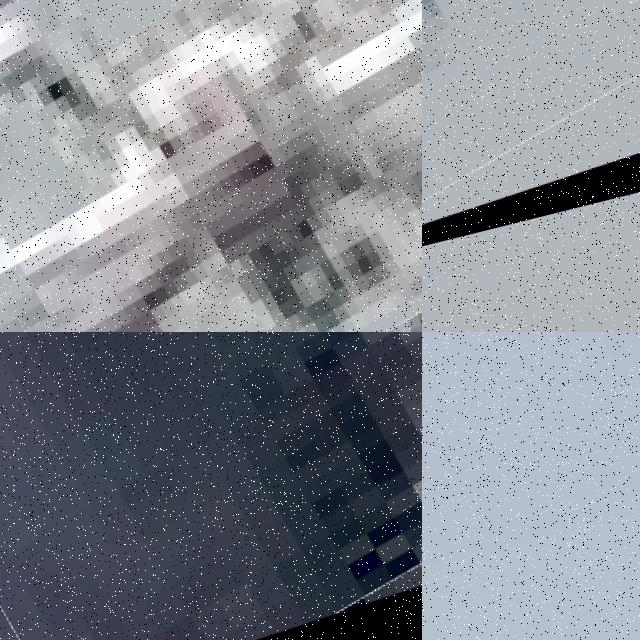drone: (0, 0, 422, 332), (0, 332, 422, 640), (422, 0, 640, 322)
